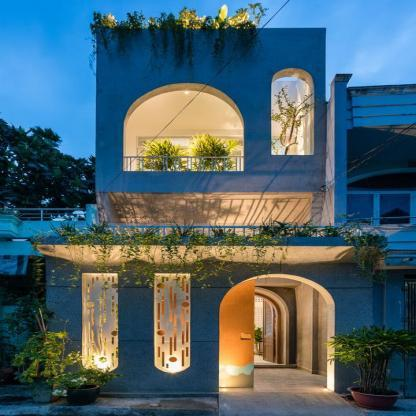Balcony: (57, 226, 362, 246), (126, 157, 245, 181)
Building Outline: (31, 27, 388, 394)
Door: (139, 149, 242, 187), (225, 295, 277, 363)
Facade: (32, 27, 388, 394)
Floor Slab: (57, 247, 362, 257), (96, 183, 327, 193)
Window: (219, 274, 335, 392), (122, 83, 244, 171), (270, 68, 314, 155), (154, 273, 191, 372), (83, 273, 117, 372), (138, 138, 242, 147)
